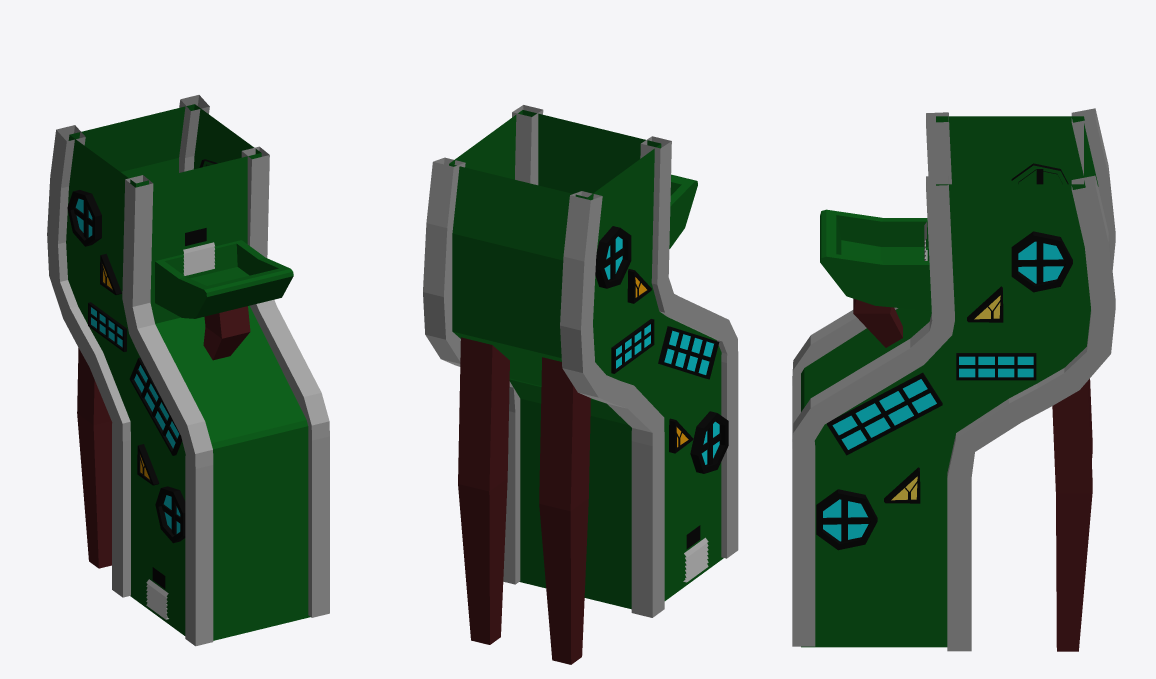
File: CasaTortaVerde.fbx
3 renders of one model, left to right at view 1: azimuth 30°, elevation 25°; view 2: azimuth 150°, elevation 25°; view 3: azimuth 270°, elevation 25°, orthographic. The views are drawn at different scales.
Visible parts, largest first — view 1: CasaTortaVerde; view 2: CasaTortaVerde; view 3: CasaTortaVerde.
Part boxes in pixels (bbox=[...]): CasaTortaVerde: bbox=[47, 95, 329, 646]; CasaTortaVerde: bbox=[423, 105, 738, 664]; CasaTortaVerde: bbox=[792, 108, 1115, 651].
Size of the model in its own units: 659 by 1766 by 941.
